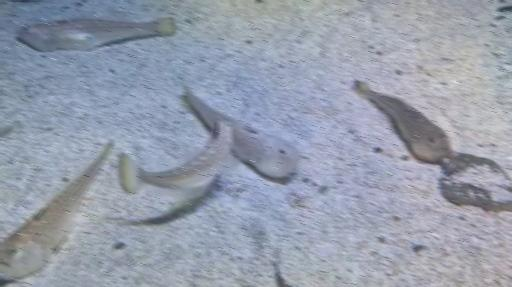Fish: (0, 140, 113, 281), (182, 85, 300, 178), (117, 121, 236, 197), (356, 80, 452, 163), (17, 17, 175, 51), (274, 265, 281, 286)
